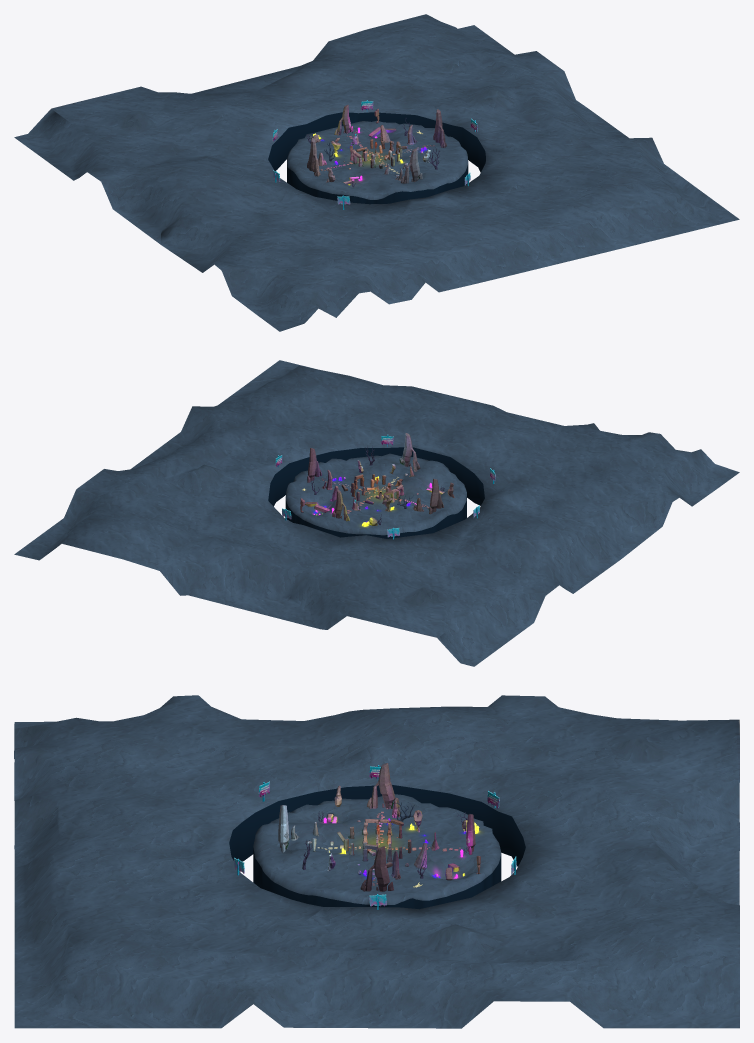
Rendered from portalworld15.glb.
The picture shows the model from 3 angles, top to bottom: view 1: azimuth 30°, elevation 25°; view 2: azimuth 150°, elevation 25°; view 3: azimuth 270°, elevation 25°; orthographic projection. The views are drawn at different scales.
Visible parts, largest first — view 1: ground, epicrocks, randomrocks; view 2: ground, epicrocks, randomrocks; view 3: ground, epicrocks, mediumrocks, randomrocks.
Part boxes in pixels (x1,y1,x2,y2): ground: (14,14,739,331); epicrocks: (307,104,446,183); randomrocks: (311,108,402,184); ground: (14,360,739,666); epicrocks: (307,433,443,521); randomrocks: (300,459,454,525); ground: (14,695,739,1028); epicrocks: (278,763,475,891); mediumrocks: (311,810,427,879); randomrocks: (291,785,480,880).
Bounding box in the file's own units: 1452 × 205 × 1453.
Materials: 25 (13 with a texture image).
